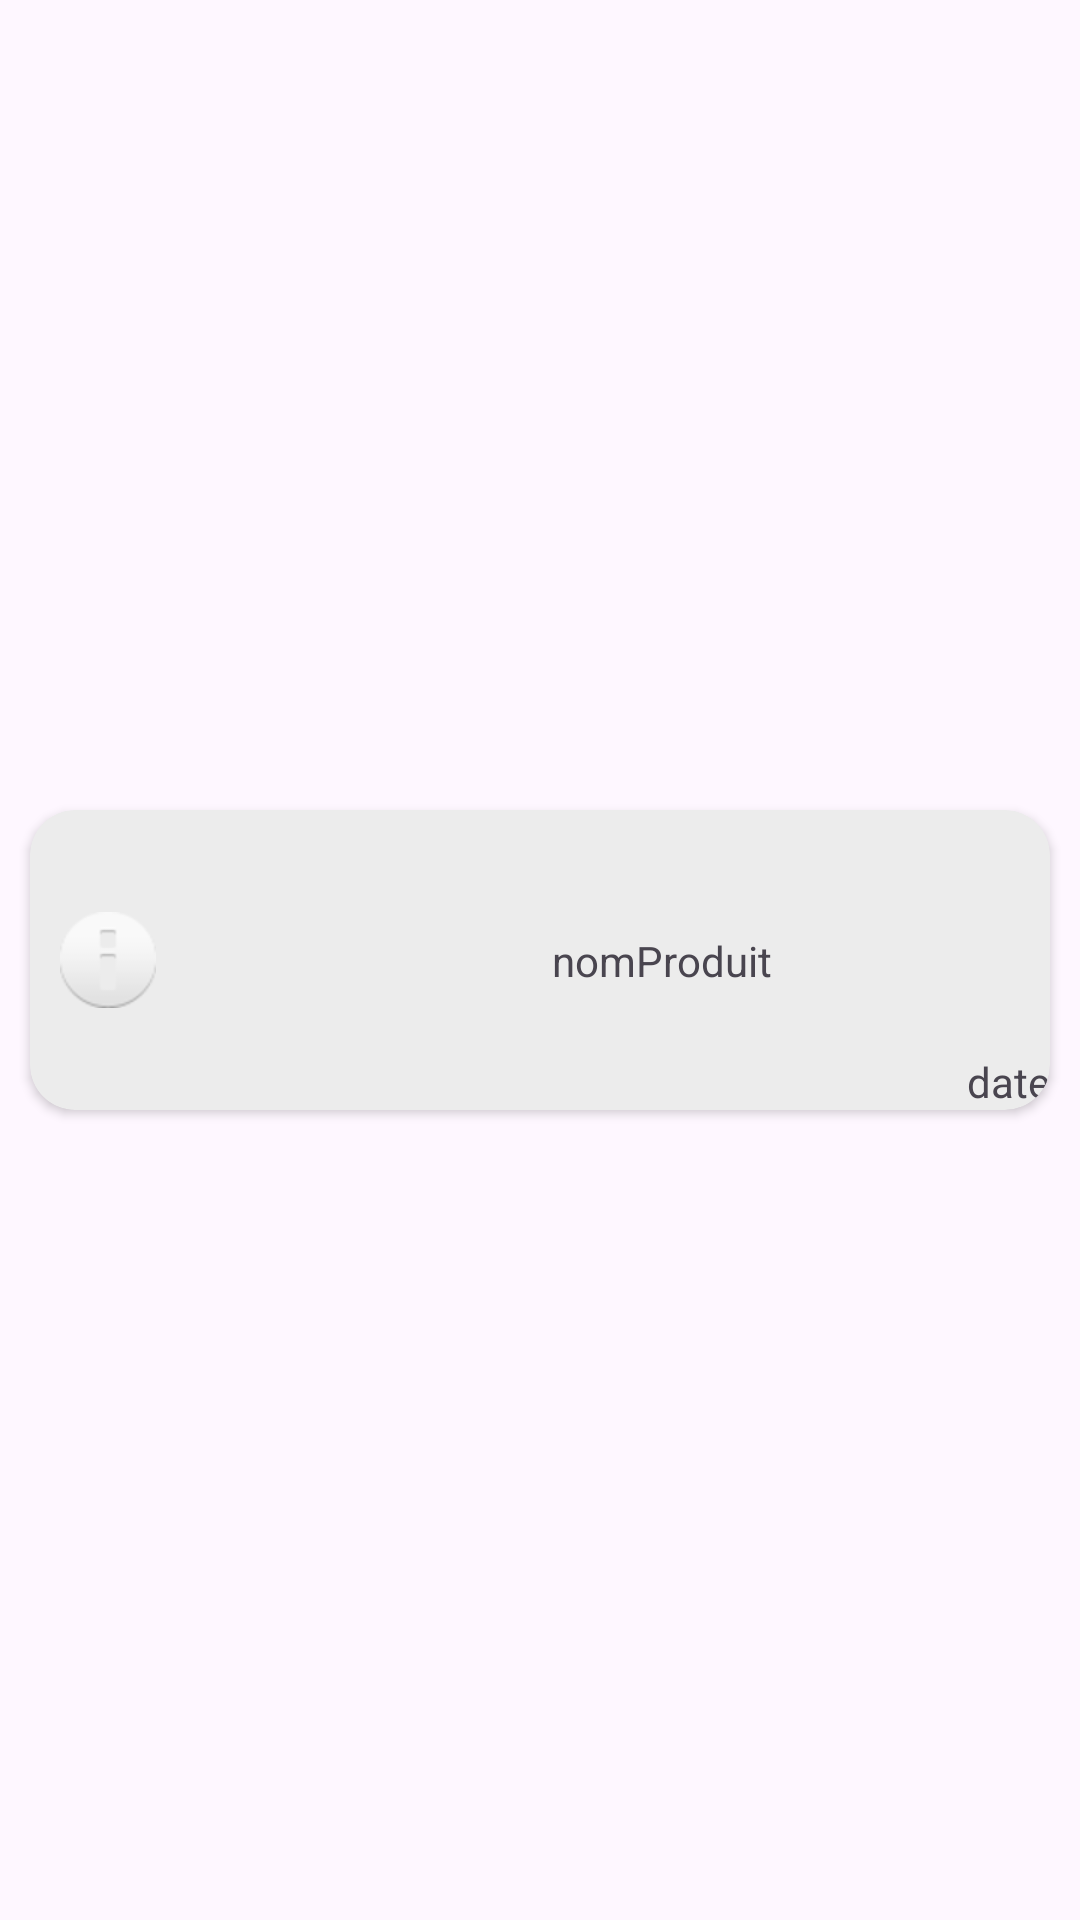

Where icons sit on this 1080 x 1920 app screen, as bbox=[x1, y1, x2, y2]:
info: bbox=[65, 930, 151, 1008]
